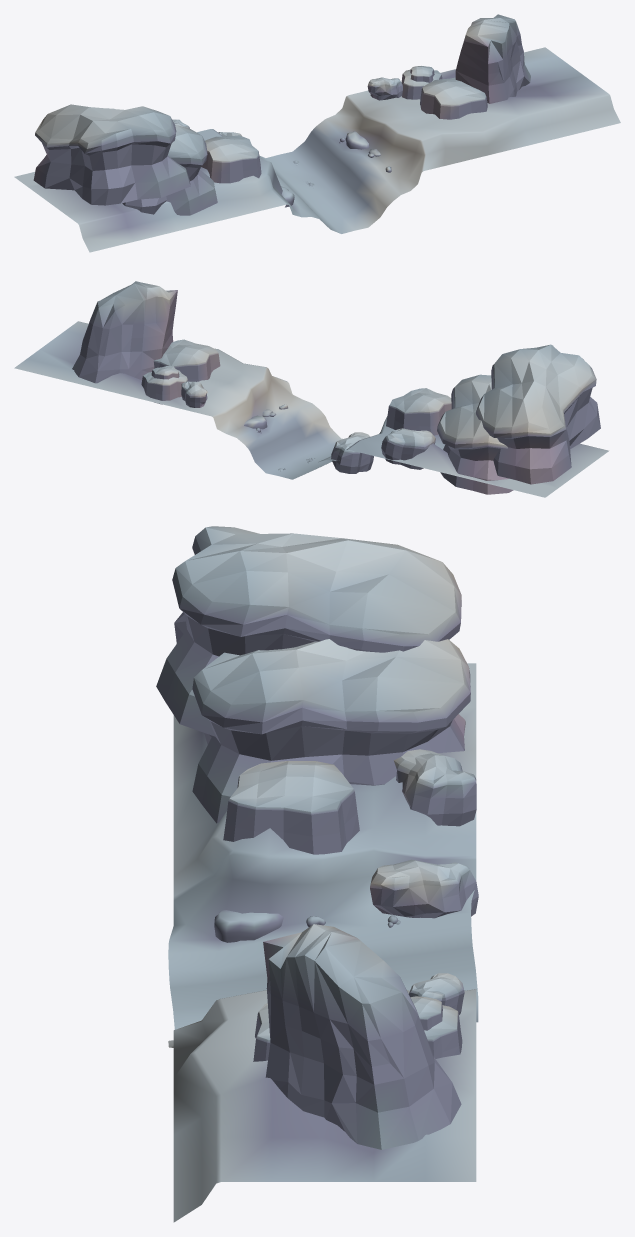
Rendered from Arctic_Luge_Straight_B.glb.
3 views of the same model, one above another, from view 1: azimuth 30°, elevation 25°; view 2: azimuth 150°, elevation 25°; view 3: azimuth 270°, elevation 25° (orthographic). The views are drawn at different scales.
Visible parts, largest first — view 1: Arctic_Luge_Straight_B, Arctic_Luge_LargeRock_prop (1), Arctic_Luge_LargeIceRock_prop, Arctic_Luge_LargeRock_prop, Arctic_Luge_SmallIceRock_prop, Arctic_Luge_SmallIceRock_prop (3), Arctic_Luge_SmalRock_prop (2), Arctic_Luge_SmallIceRock_prop (1), Arctic_Luge_SmallIceRock_prop (2); view 2: Arctic_Luge_Straight_B, Arctic_Luge_LargeRock_prop (1), Arctic_Luge_LargeIceRock_prop, Arctic_Luge_LargeRock_prop, Arctic_Luge_SmallIceRock_prop, Arctic_Luge_SmallIceRock_prop (3), Arctic_Luge_SmallRock_prop, Arctic_Luge_SmallRock_prop (1), Arctic_Luge_SmallIceRock_prop (1), Arctic_Luge_SmalRock_prop (2), Arctic_Luge_SmallIceRock_prop (2); view 3: Arctic_Luge_Straight_B, Arctic_Luge_LargeRock_prop (1), Arctic_Luge_LargeRock_prop, Arctic_Luge_LargeIceRock_prop, Arctic_Luge_SmallIceRock_prop, Arctic_Luge_SmallRock_prop (1), Arctic_Luge_SmallRock_prop, Arctic_Luge_SmallIceRock_prop (1), Arctic_Luge_SmalRock_prop (2).
Boxes of the visible parts, x1,y1,x2,y2 form: Arctic_Luge_Straight_B: (14,47,620,252); Arctic_Luge_LargeRock_prop (1): (33,104,190,205); Arctic_Luge_LargeIceRock_prop: (455,14,530,103); Arctic_Luge_LargeRock_prop: (122,125,217,215); Arctic_Luge_SmallIceRock_prop: (201,135,261,183); Arctic_Luge_SmallIceRock_prop (3): (420,77,487,119); Arctic_Luge_SmalRock_prop (2): (367,77,402,100); Arctic_Luge_SmallIceRock_prop (1): (401,69,442,99); Arctic_Luge_SmallIceRock_prop (2): (410,66,434,82); Arctic_Luge_Straight_B: (14,321,608,497); Arctic_Luge_LargeRock_prop (1): (476,344,600,484); Arctic_Luge_LargeIceRock_prop: (72,281,177,383); Arctic_Luge_LargeRock_prop: (437,374,513,494); Arctic_Luge_SmallIceRock_prop: (386,388,451,435); Arctic_Luge_SmallIceRock_prop (3): (153,339,220,381); Arctic_Luge_SmallRock_prop: (381,428,435,469); Arctic_Luge_SmallRock_prop (1): (331,432,373,473); Arctic_Luge_SmallIceRock_prop (1): (141,370,187,404); Arctic_Luge_SmalRock_prop (2): (181,381,207,407); Arctic_Luge_SmallIceRock_prop (2): (151,365,179,379); Arctic_Luge_Straight_B: (168,663,478,1222); Arctic_Luge_LargeRock_prop (1): (156,526,461,736); Arctic_Luge_LargeRock_prop: (192,639,470,823); Arctic_Luge_LargeIceRock_prop: (263,924,461,1149); Arctic_Luge_SmallIceRock_prop: (223,761,359,854); Arctic_Luge_SmallRock_prop (1): (370,859,478,918); Arctic_Luge_SmallRock_prop: (394,749,476,826); Arctic_Luge_SmallIceRock_prop (1): (424,1005,462,1058); Arctic_Luge_SmalRock_prop (2): (409,973,464,1014).
Bounding box in the file's own units: 25.98 × 7.11 × 6.83.
